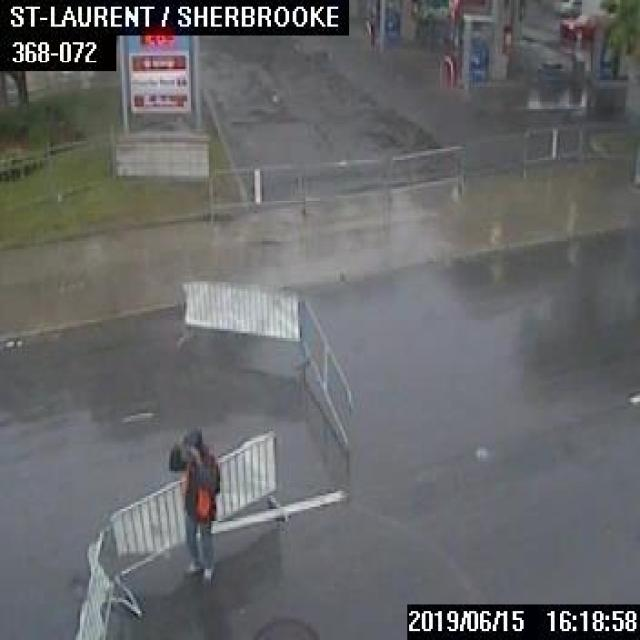pedestrian: (165, 429, 220, 580)
vehicle: (560, 12, 614, 39)
